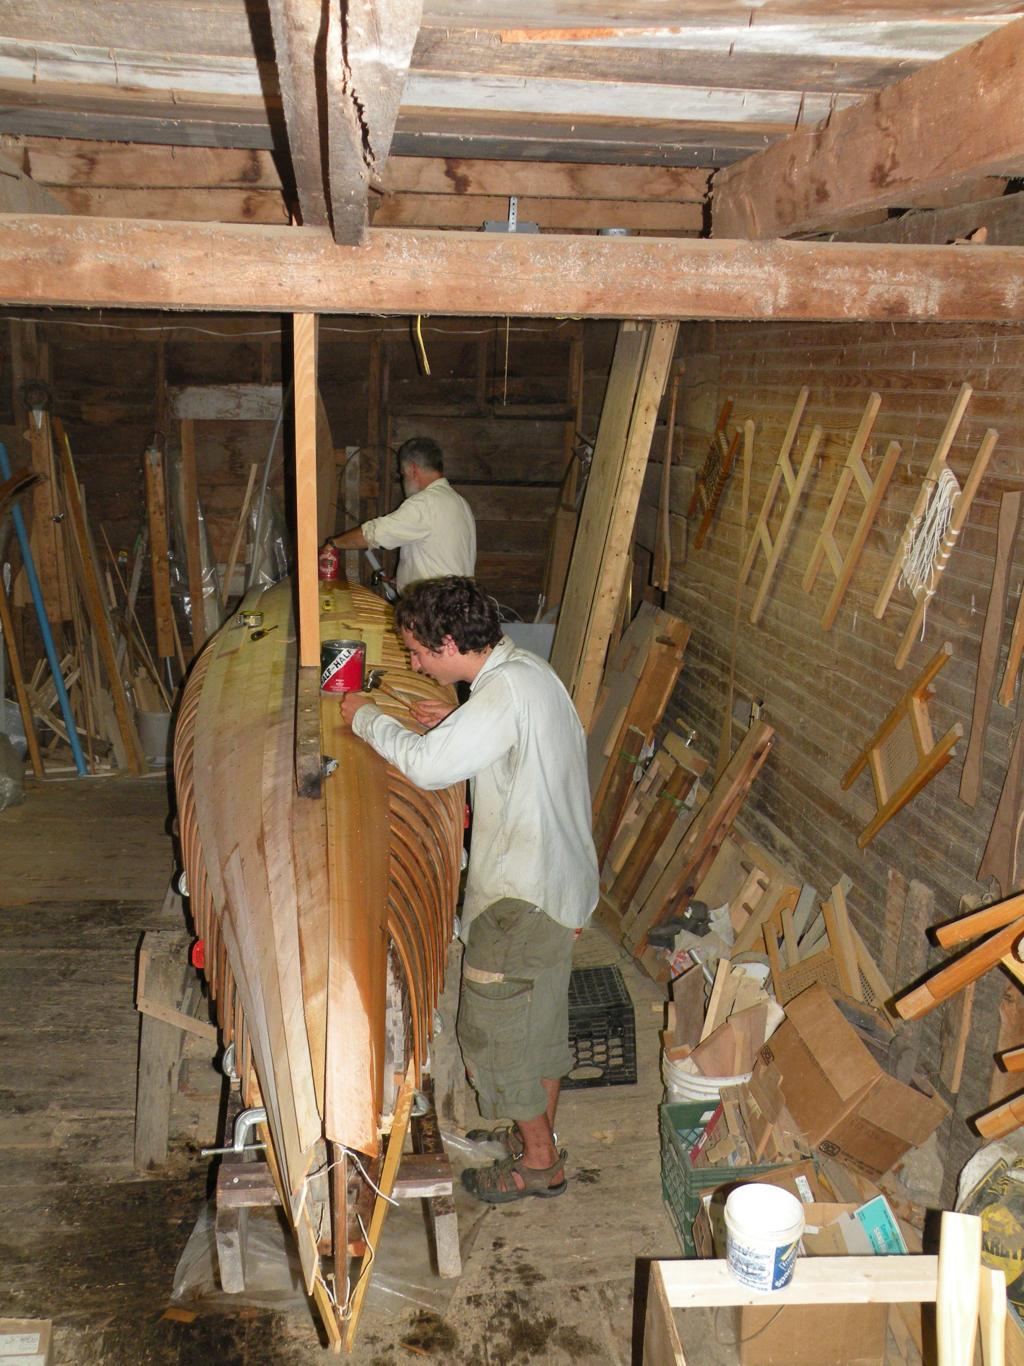face: (404, 593, 463, 692)
